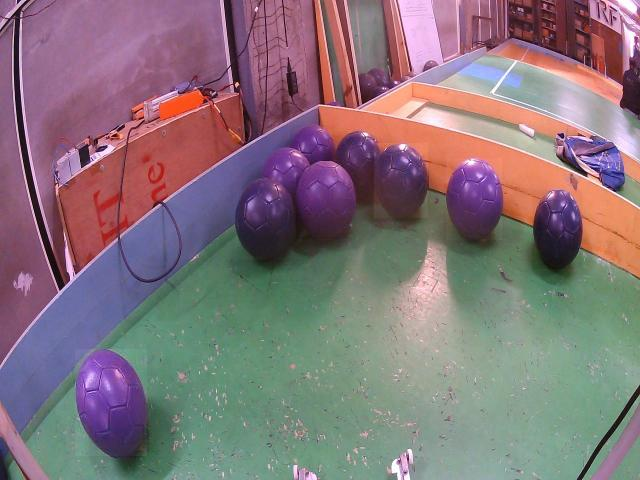jambhalya: (76, 350, 147, 456), (296, 162, 356, 239), (447, 158, 502, 240), (261, 147, 310, 198), (290, 125, 335, 165)
kaalyya: (235, 178, 295, 260), (375, 144, 428, 218), (533, 190, 582, 269), (334, 132, 381, 199)
